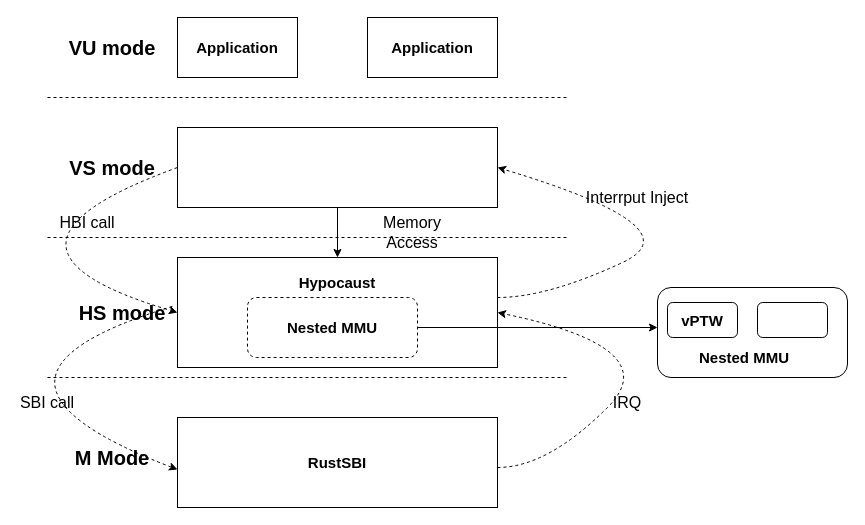
Image size: 865x525. Some labels were removed from this diagram. The centre of each missing label's shape, as x and y in pixels:
Guest OS: pixel 337 167
vTLB: pixel 792 320
